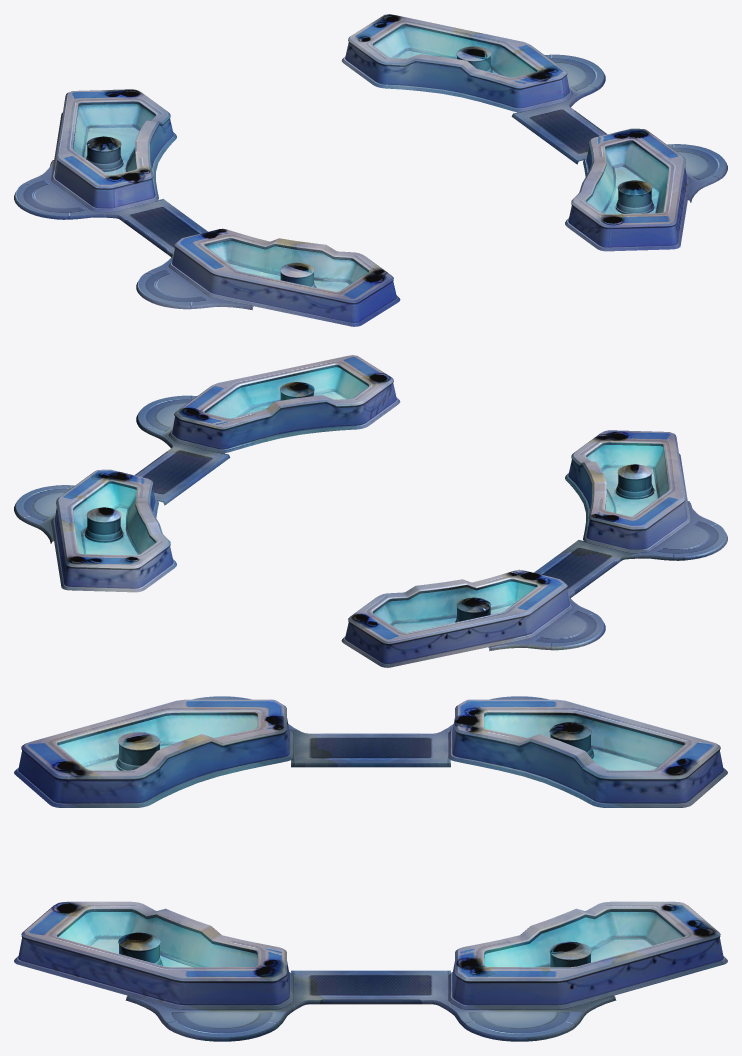
File: pref_sm_4v4beachtech_bk_WSJ_waterblock_c02a_lv0.fbx
The picture shows the model from 3 angles, top to bottom: view 1: azimuth 30°, elevation 25°; view 2: azimuth 150°, elevation 25°; view 3: azimuth 270°, elevation 25°; orthographic projection. The views are drawn at different scales.
Visible parts, largest first — view 1: sm_4v4beachtech_WSJ_bk_waterblock_c02a_lv0; view 2: sm_4v4beachtech_WSJ_bk_waterblock_c02a_lv0; view 3: sm_4v4beachtech_WSJ_bk_waterblock_c02a_lv0.
Boxes of the visible parts, bbox=[...] form: sm_4v4beachtech_WSJ_bk_waterblock_c02a_lv0: bbox=[14, 14, 727, 326]; sm_4v4beachtech_WSJ_bk_waterblock_c02a_lv0: bbox=[14, 355, 727, 667]; sm_4v4beachtech_WSJ_bk_waterblock_c02a_lv0: bbox=[14, 696, 727, 1041].
Size of the model in its own units: 39.66 by 2.06 by 34.89.
Materials: 1 (1 with a texture image).
